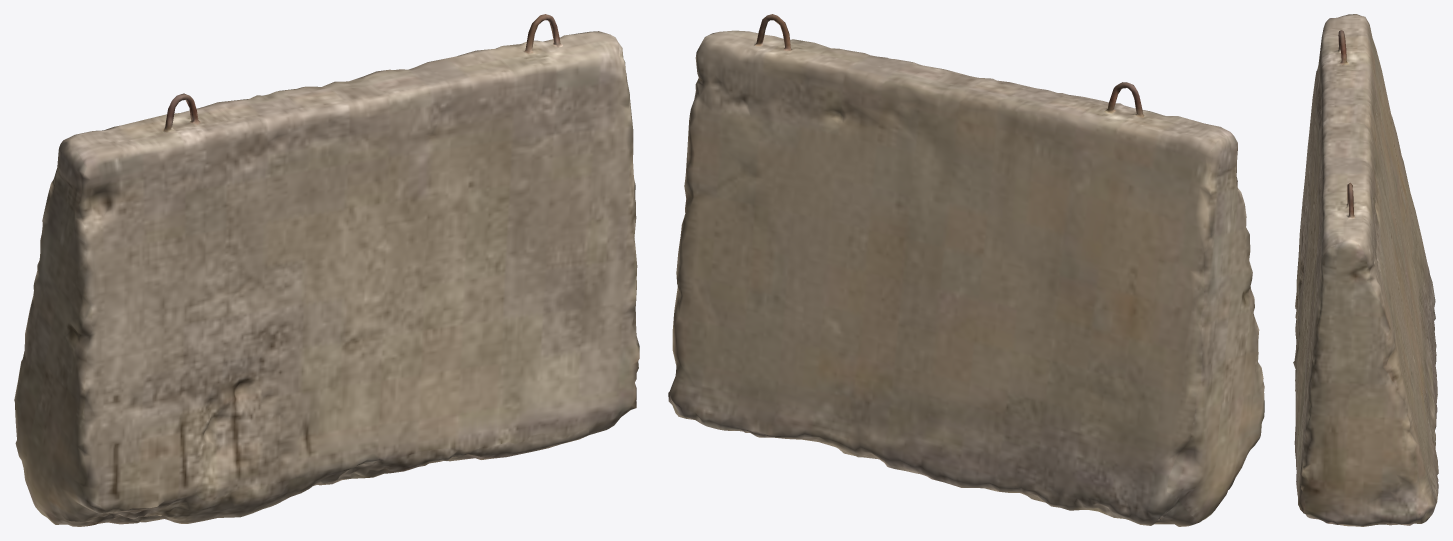
The model's file is barrier.glb.
3 renders of one model, left to right at view 1: azimuth 30°, elevation 25°; view 2: azimuth 150°, elevation 25°; view 3: azimuth 270°, elevation 25°, orthographic. The views are drawn at different scales.
Parts seen in each view (by area): view 1: concrete_road_barrier_02_LOD2; view 2: concrete_road_barrier_02_LOD2; view 3: concrete_road_barrier_02_LOD2.
Part boxes in pixels (left/top/right/bottom): concrete_road_barrier_02_LOD2: left=14, top=14, right=639, bottom=526; concrete_road_barrier_02_LOD2: left=668, top=14, right=1264, bottom=526; concrete_road_barrier_02_LOD2: left=1293, top=14, right=1438, bottom=526.
Bounding box in the file's own units: 1.57 × 1.11 × 0.4421.
Materials: 1 (1 with a texture image).
